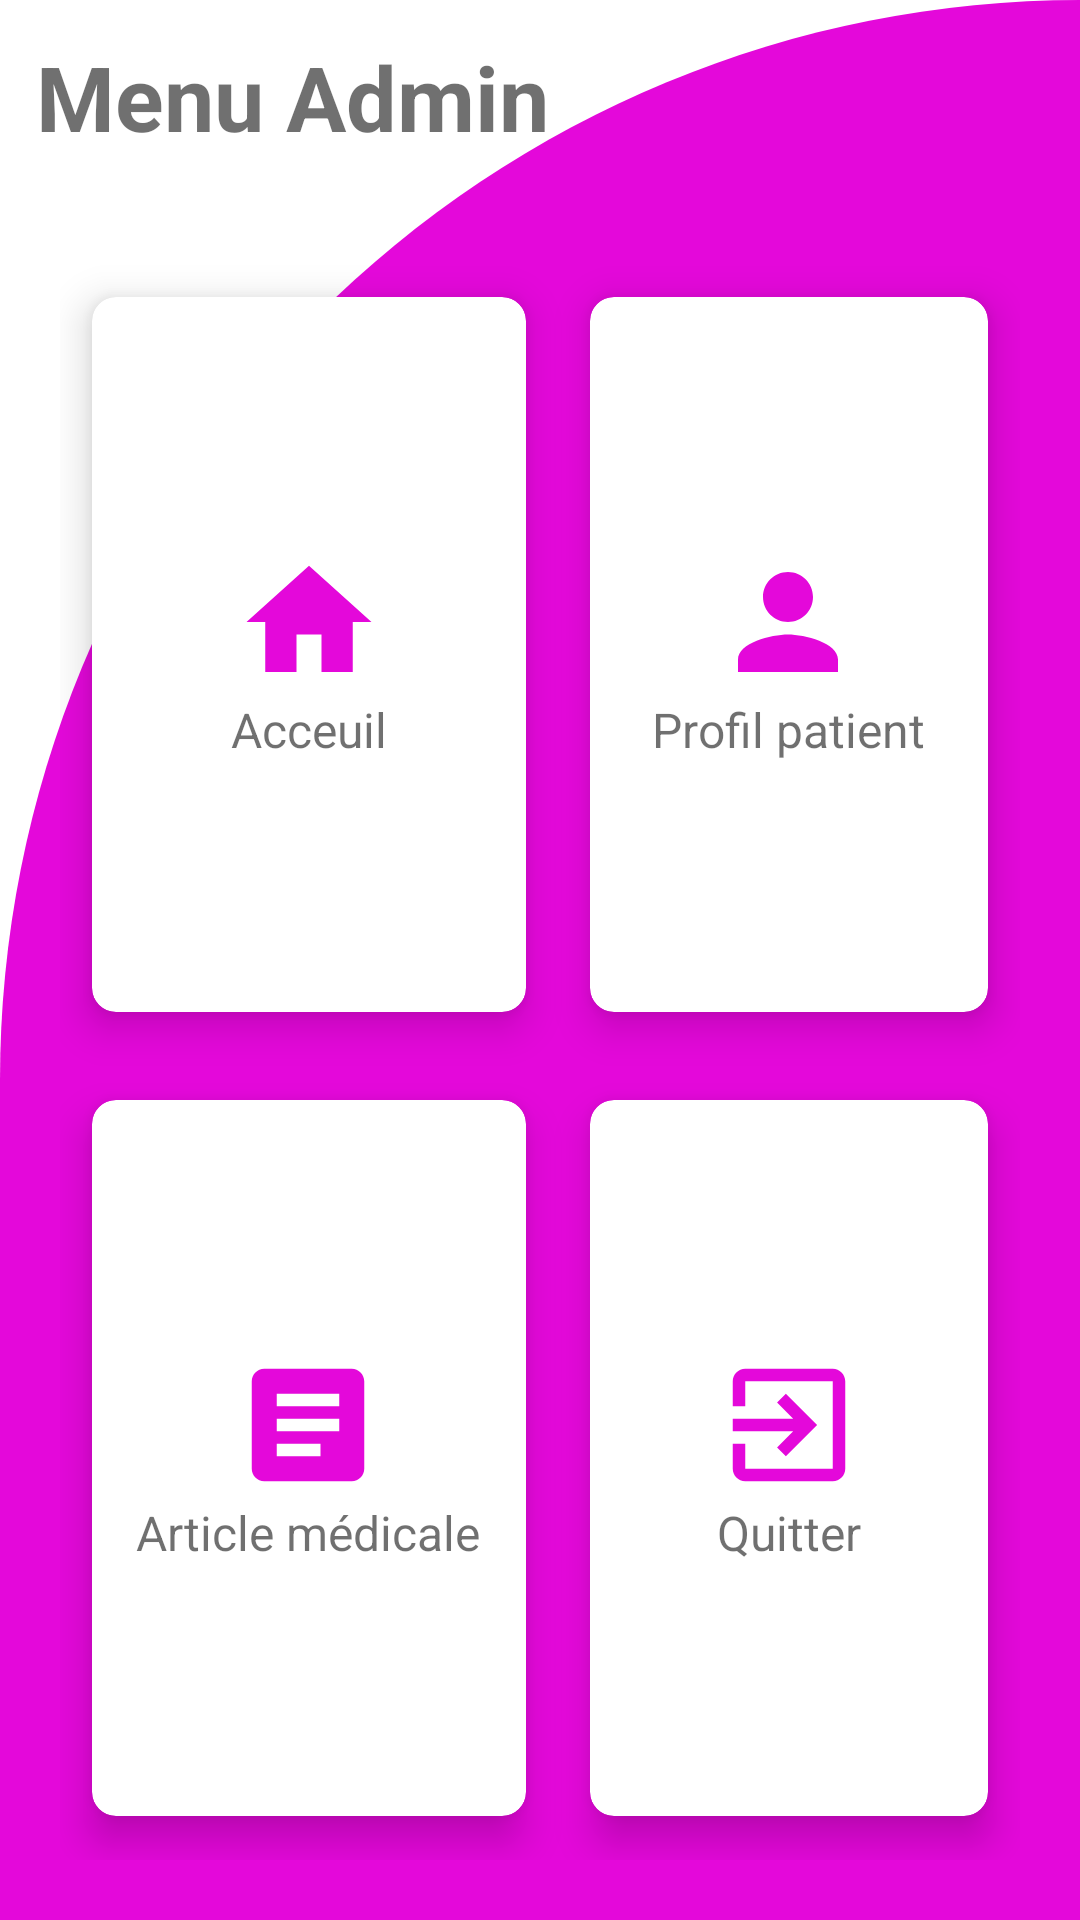

Icons on this 1080×1920 Android screen, each with its box as (x1, y1, x2, y2):
person: (738, 572, 838, 672)
